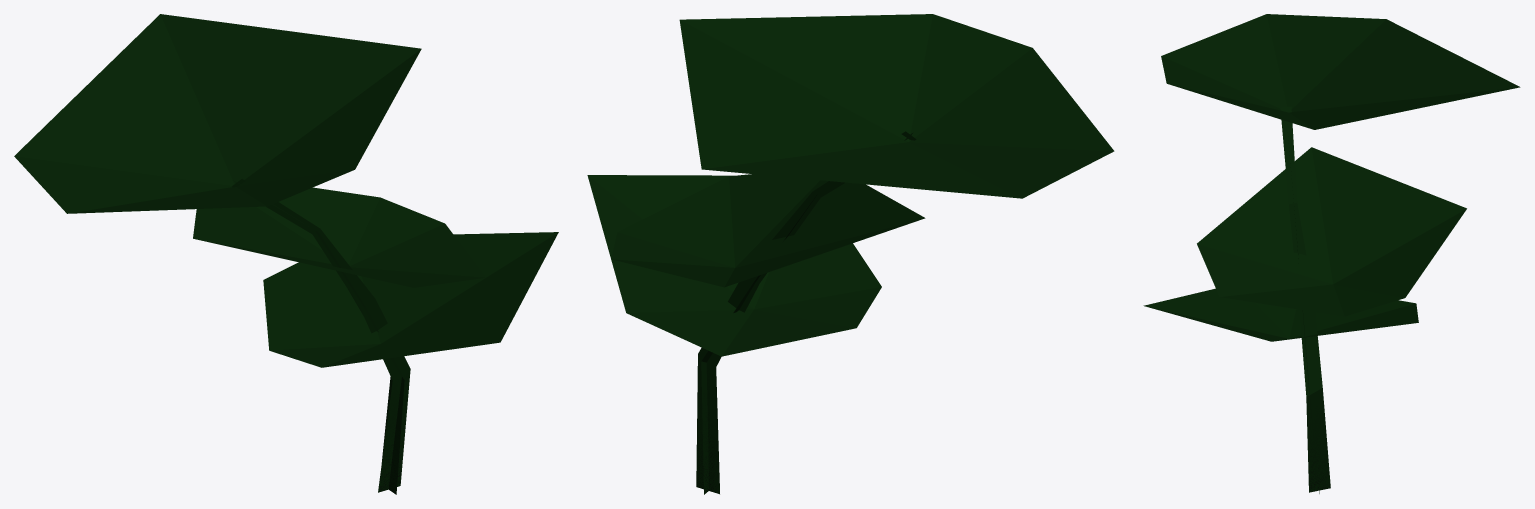
File: plant9.fbx
3 views of the same model, side by side, from view 1: azimuth 30°, elevation 25°; view 2: azimuth 150°, elevation 25°; view 3: azimuth 270°, elevation 25° (orthographic). The views are drawn at different scales.
Parts seen in each view (by area): view 1: leaf_xw15_xt10_xp20; view 2: leaf_xw15_xt10_xp20; view 3: leaf_xw15_xt10_xp20.
Part boxes in pixels (<box>): leaf_xw15_xt10_xp20: <box>14,14,558,494</box>; leaf_xw15_xt10_xp20: <box>587,14,1114,494</box>; leaf_xw15_xt10_xp20: <box>1143,14,1520,493</box>.
Bounding box in the file's own units: 48.89 × 41.25 × 37.71.
